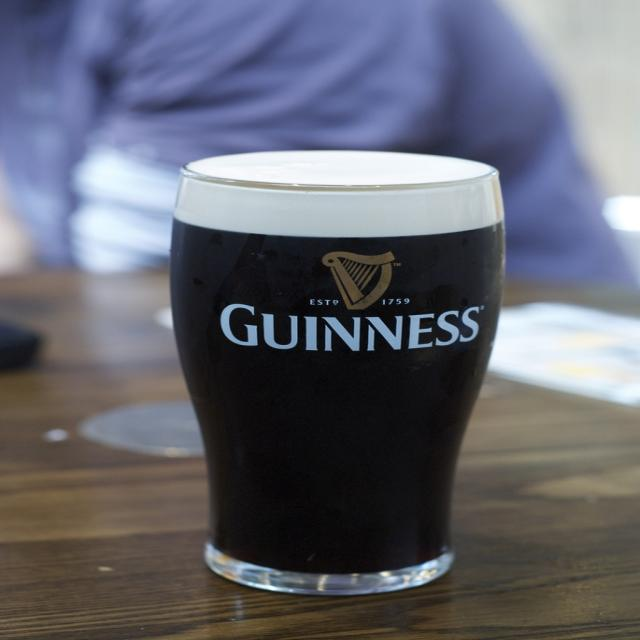guiness: (212, 252, 487, 358)
